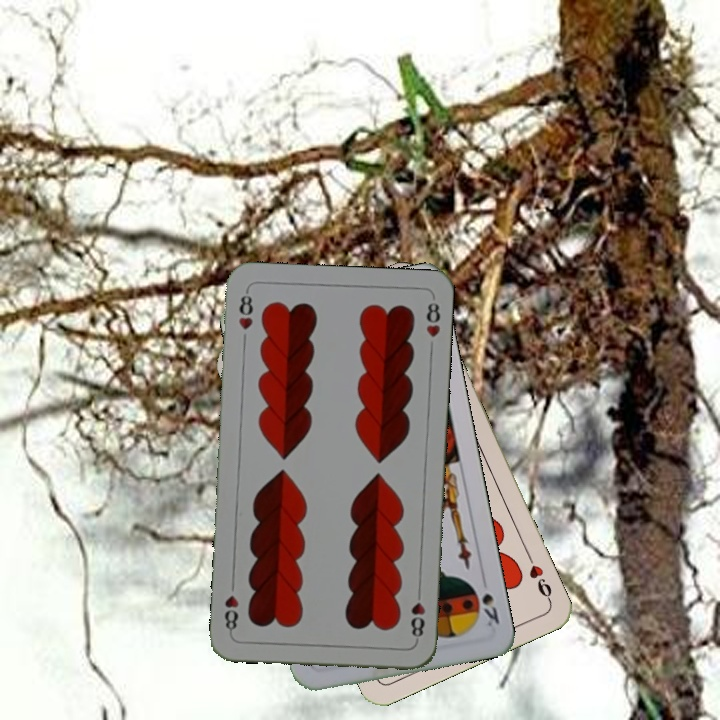H8: (407, 585, 428, 644), (235, 286, 256, 333)
H9: (522, 549, 555, 604)
SK: (478, 572, 502, 629)
